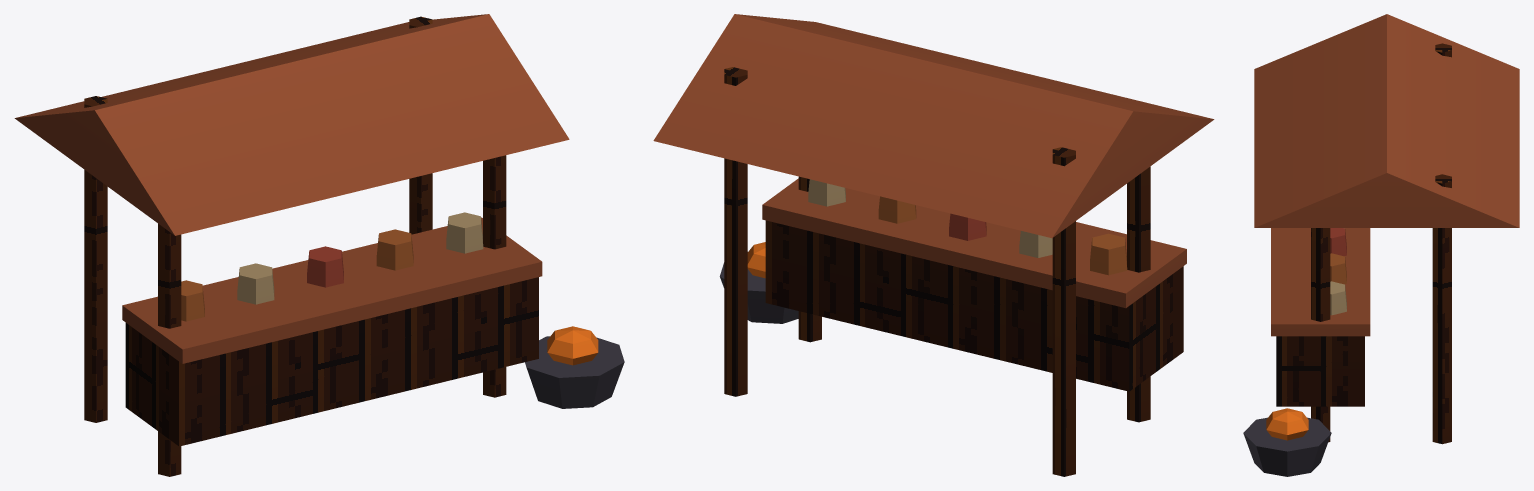
File: spice_stall.glb
The picture shows the model from 3 angles, left to right: view 1: azimuth 30°, elevation 25°; view 2: azimuth 150°, elevation 25°; view 3: azimuth 270°, elevation 25°; orthographic projection. The views are drawn at different scales.
Parts seen in each view (by area): view 1: spice_stall; view 2: spice_stall; view 3: spice_stall.
Part boxes in pixels (left/top/right/bottom): spice_stall: left=14, top=14, right=624, bottom=476; spice_stall: left=653, top=14, right=1214, bottom=476; spice_stall: left=1243, top=14, right=1519, bottom=476.
Bounding box in the file's own units: 4 × 2.8 × 2.5.
3 materials, 1 textured.
